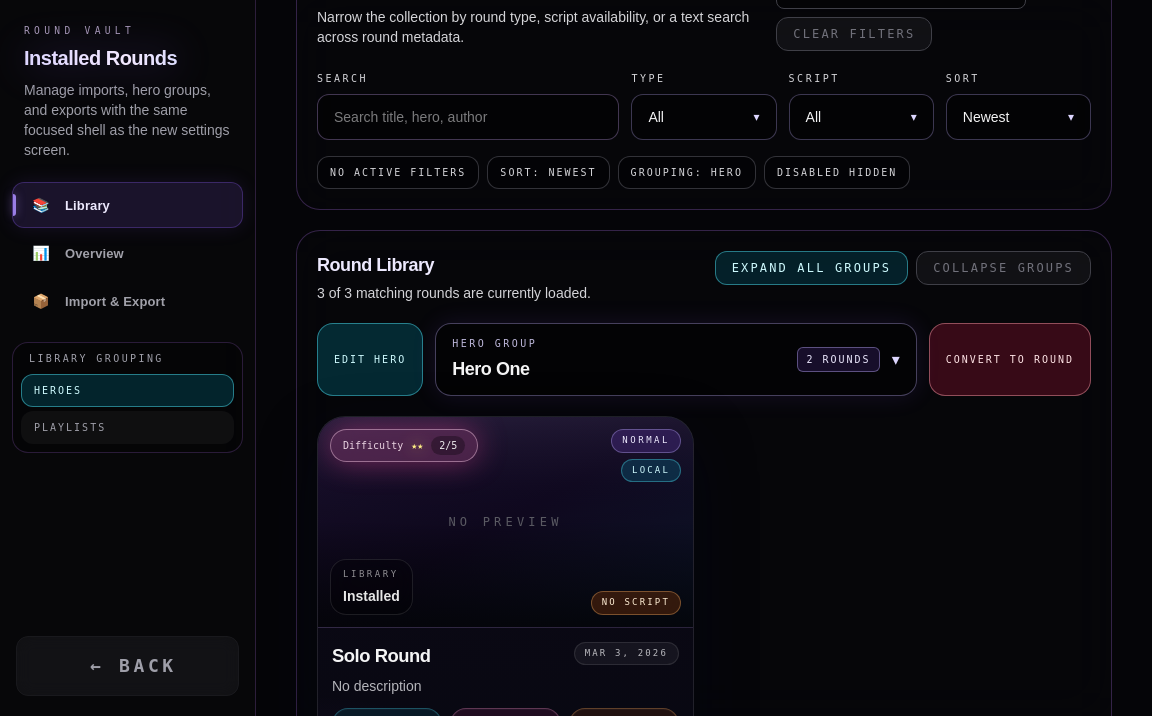
InstalledRoundsPage hero grouping › renders hero groups collapsed by default and toggles expansion
(page scrolled)
Expected: the heading "Solo Round" is shown, [332,645,431,666]
Expected: the heading "Hero Round 1" is not shown
Click the button with aria-label "Hero One (2 rounds)": (495,344) [435,323,917,396]
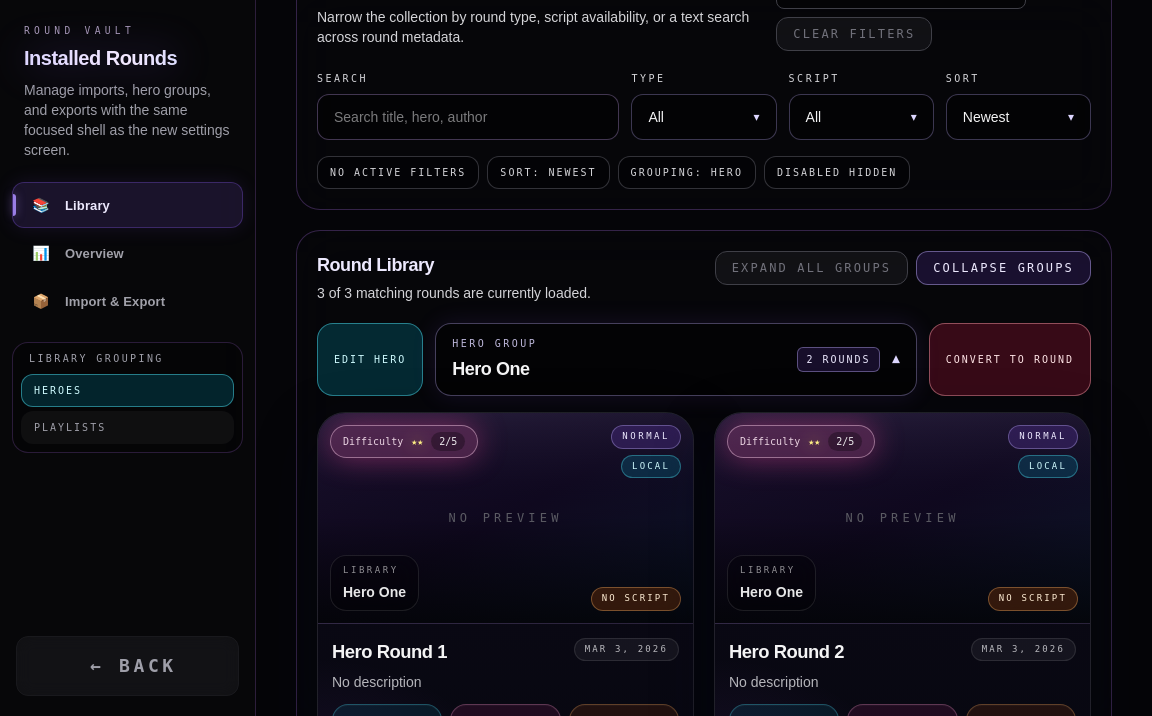
Result: the heading "Hero Round 1" is shown at [332,641,447,662]
Result: the heading "Hero Round 2" is shown at [729,641,844,662]
Click the button with aria-label "Hero One (2 rounds)": (495,344) [435,323,917,396]
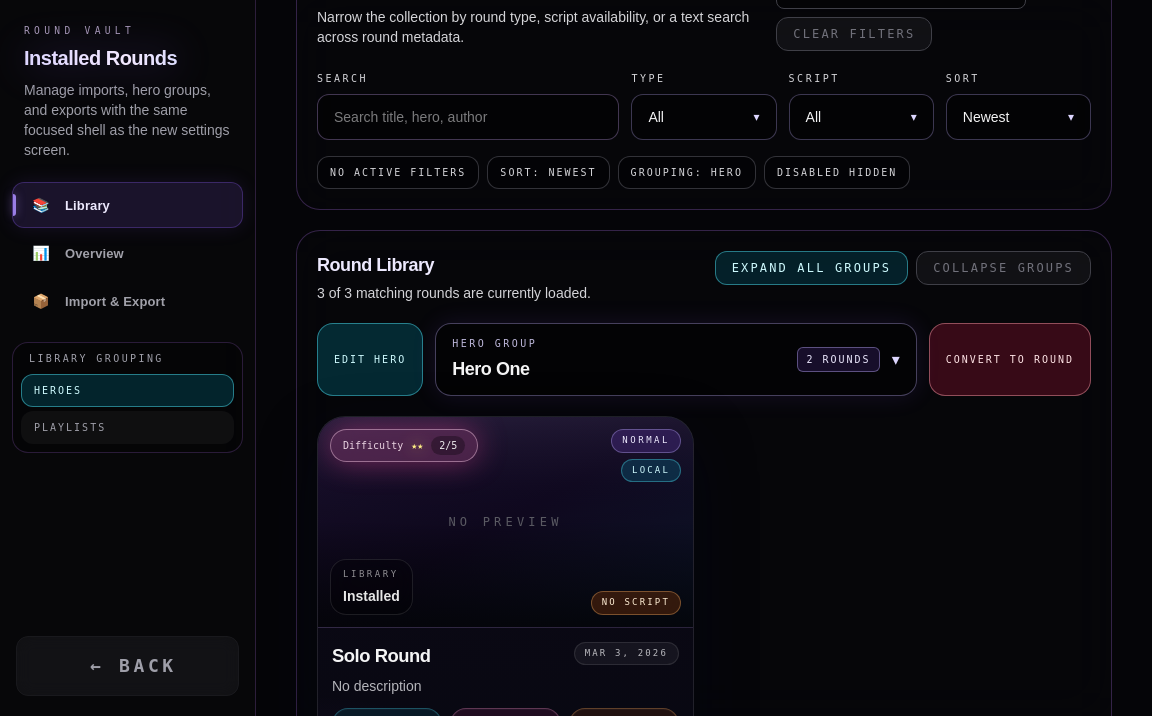
Result: the heading "Hero Round 1" is gone
